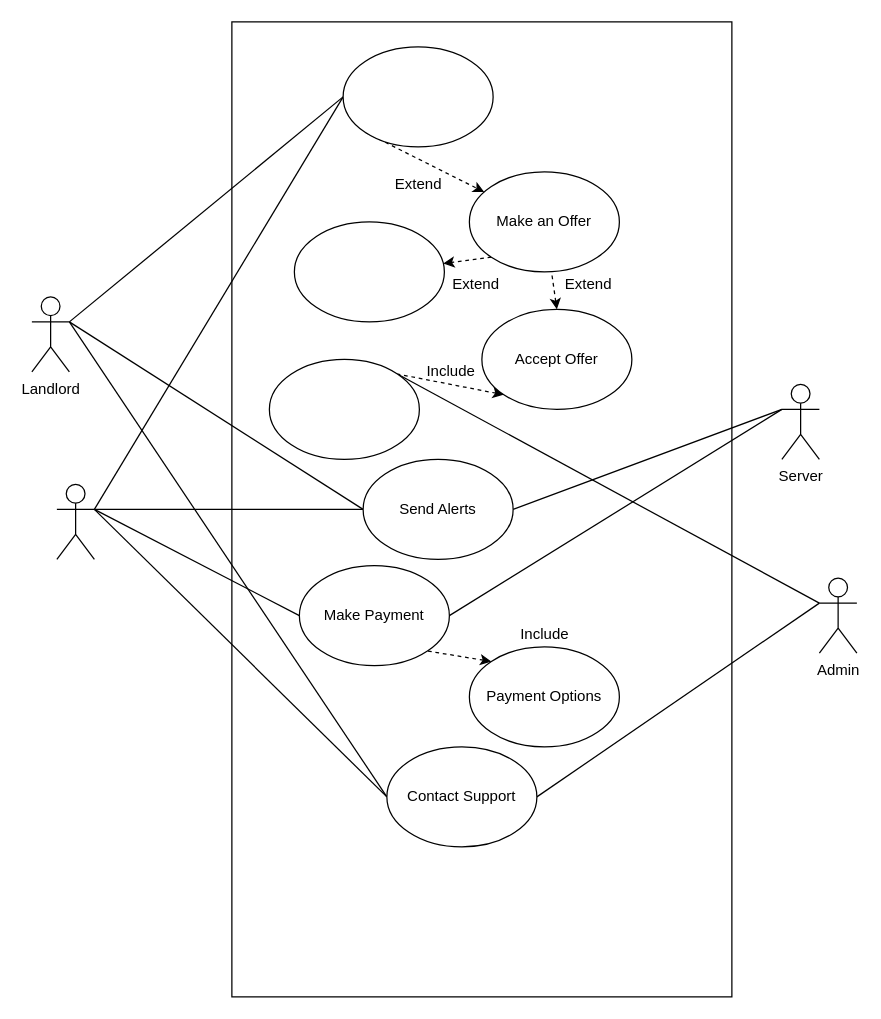
The diagram is 881 pixels wide and 1019 high, and some of its shapes have lost their labels. The shapes that lost their labels are listed below. From the top down, each one's centre as x and y in pixels, then its label:
(417,96): Iniitiate Communication
(368,271): Decline Offer
(343,408): Provide Documents and signed affadavit
(75,521): Tenant
